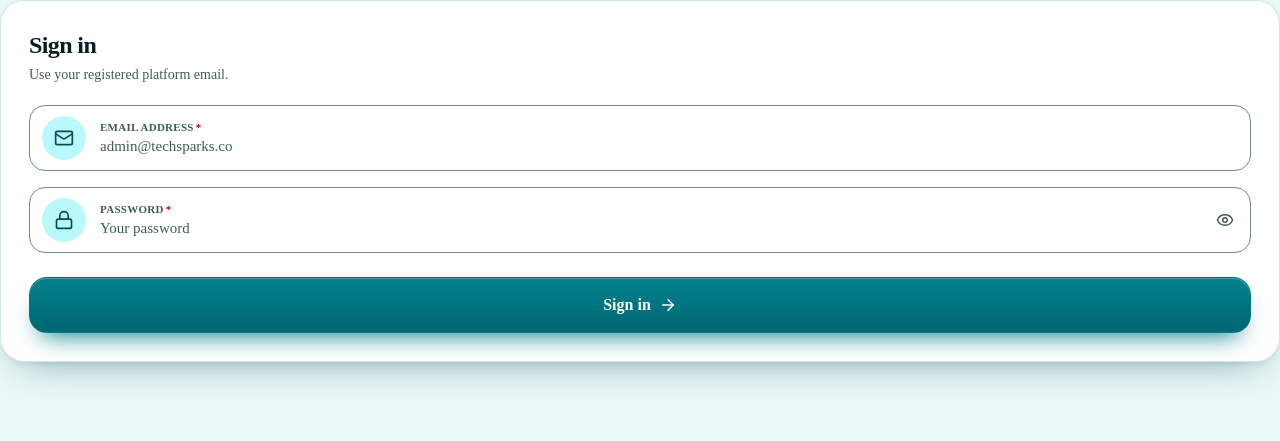
Scenario: platform admin login › refuses an empty form
This screenshot has width=1280, height=441.
Click the button "Sign in".
click(640, 305)  # box [29, 277, 1251, 333]
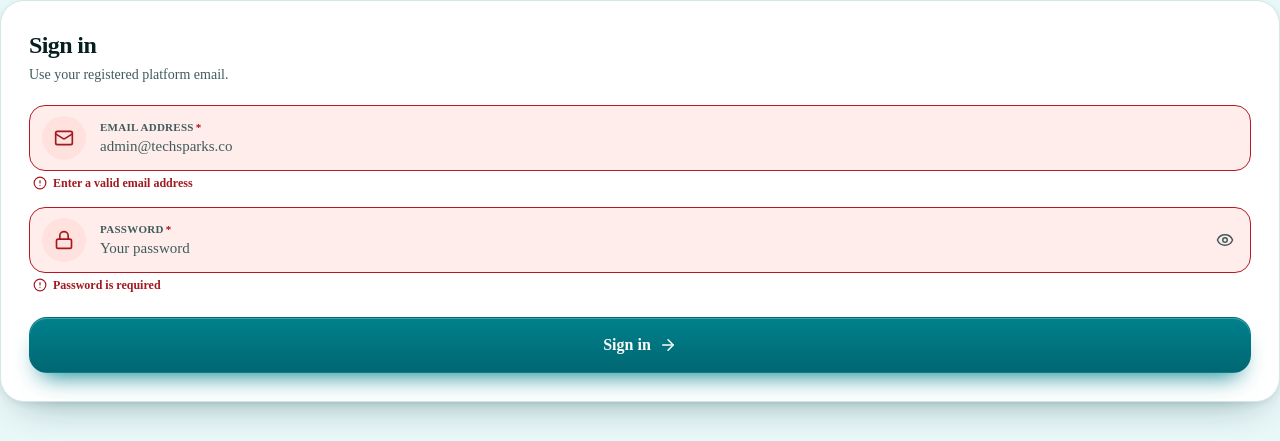
Now the text "Password is required" is shown, box [33, 278, 161, 292]
